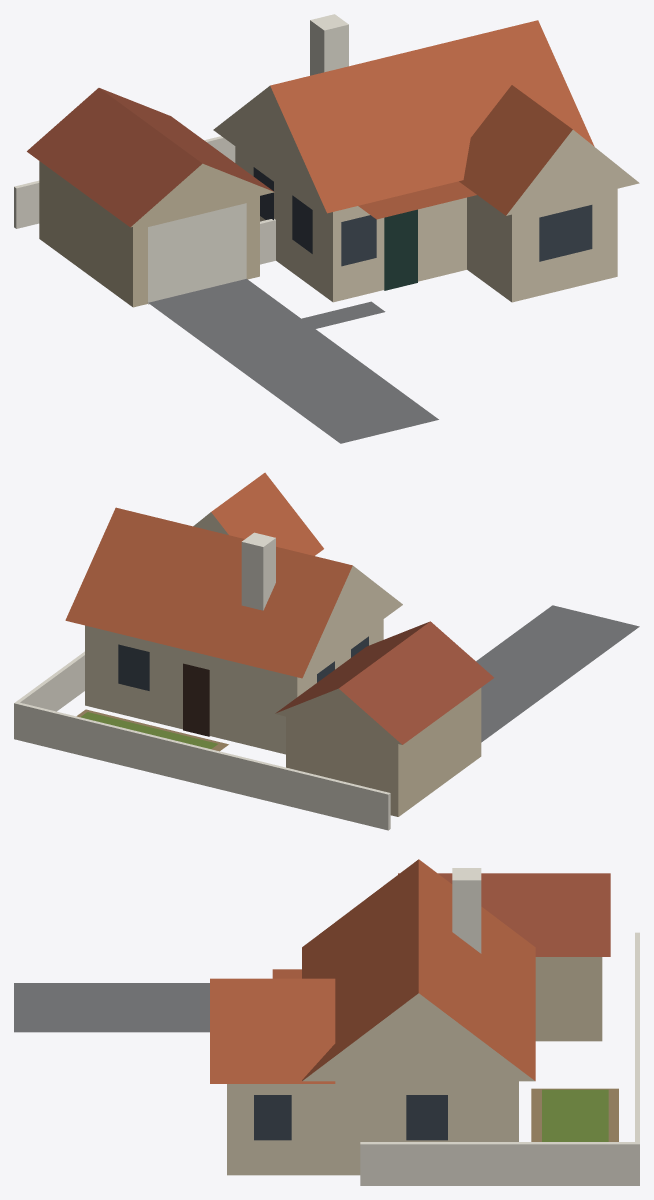
Rendered from house_far.glb.
The picture shows the model from 3 angles, top to bottom: view 1: azimuth 30°, elevation 25°; view 2: azimuth 150°, elevation 25°; view 3: azimuth 270°, elevation 25°; orthographic projection. The views are drawn at different scales.
Visible parts, largest first — view 1: house_far; view 2: house_far; view 3: house_far.
Boxes of the visible parts, <box> form: house_far: <box>14,14,639,443</box>; house_far: <box>14,472,639,830</box>; house_far: <box>14,859,639,1185</box>.
Bounding box in the file's own units: 12.05 × 5.7 × 15.
